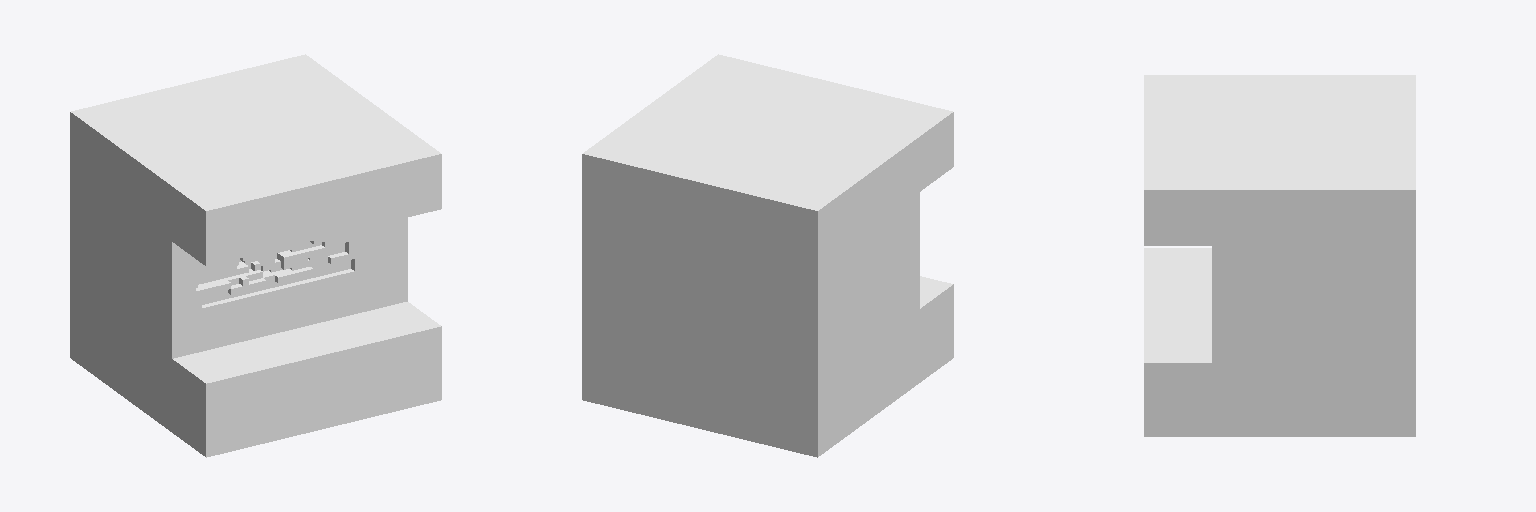
File: straight_Hallway_V3.obj
3 views of the same model, side by side, from view 1: azimuth 30°, elevation 25°; view 2: azimuth 150°, elevation 25°; view 3: azimuth 270°, elevation 25° (orthographic).
Visible parts, largest first — view 1: straight_Hallway_V3; view 2: straight_Hallway_V3; view 3: straight_Hallway_V3.
Part boxes in pixels (left/top/right/bottom): straight_Hallway_V3: left=70, top=54, right=441, bottom=457; straight_Hallway_V3: left=582, top=54, right=953, bottom=457; straight_Hallway_V3: left=1144, top=75, right=1415, bottom=436.
Bounding box in the file's own units: 40 × 40 × 40.